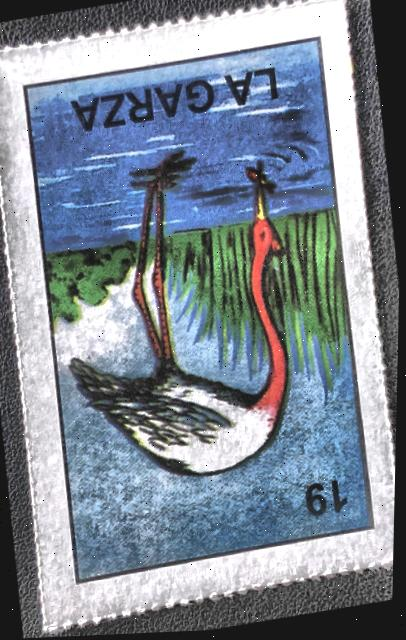El Garza: (0, 15, 404, 604)
